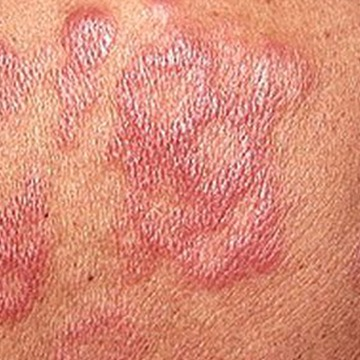Leprosy: (114, 33, 317, 284), (0, 3, 114, 146), (0, 165, 61, 331)
